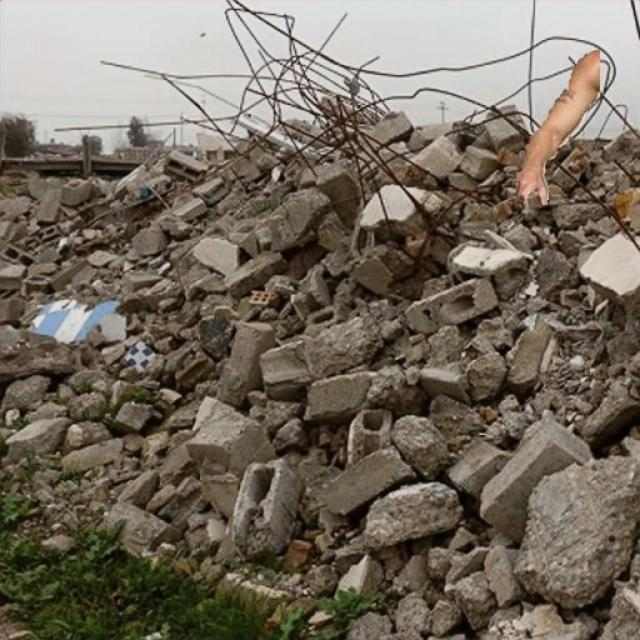Person in Rubble: (516, 50, 599, 204)
